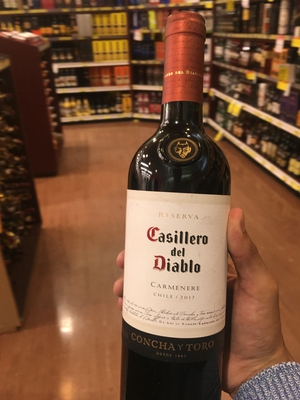casillero del diablo carmenere: (99, 15, 247, 400)
